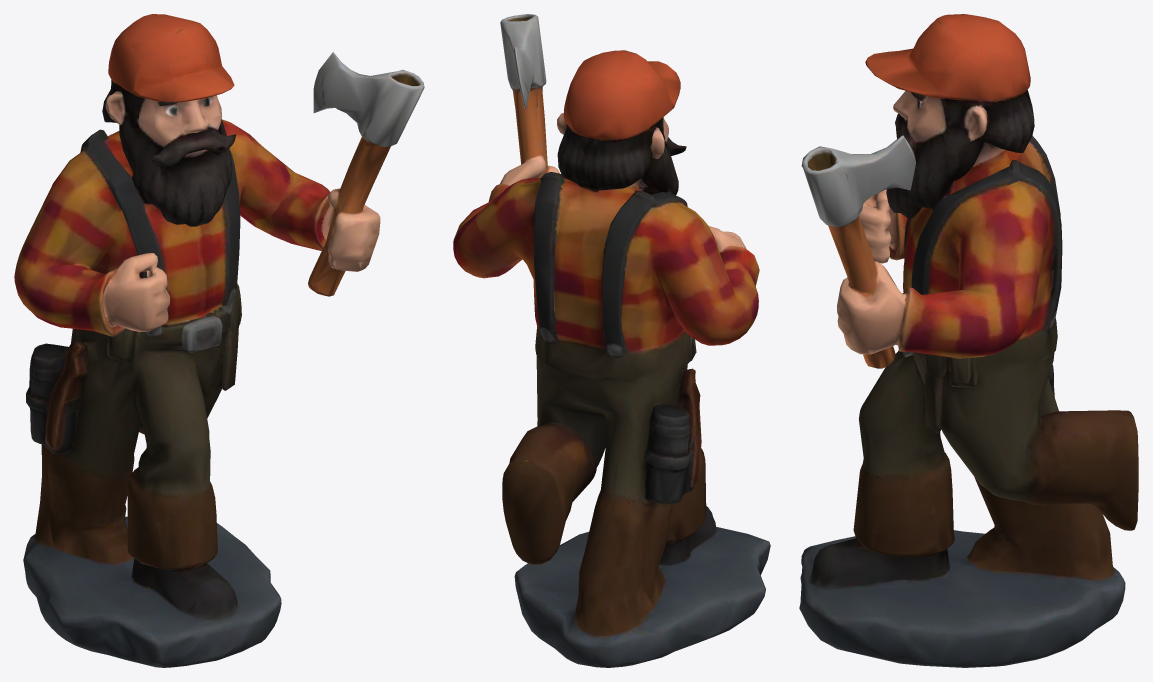
File: giant_statue.glb
3 renders of one model, left to right at view 1: azimuth 30°, elevation 25°; view 2: azimuth 150°, elevation 25°; view 3: azimuth 270°, elevation 25°, orthographic. The views are drawn at different scales.
Bounding box in the file's own units: 0.5916 × 1 × 0.5047.
1 material, 1 textured.
